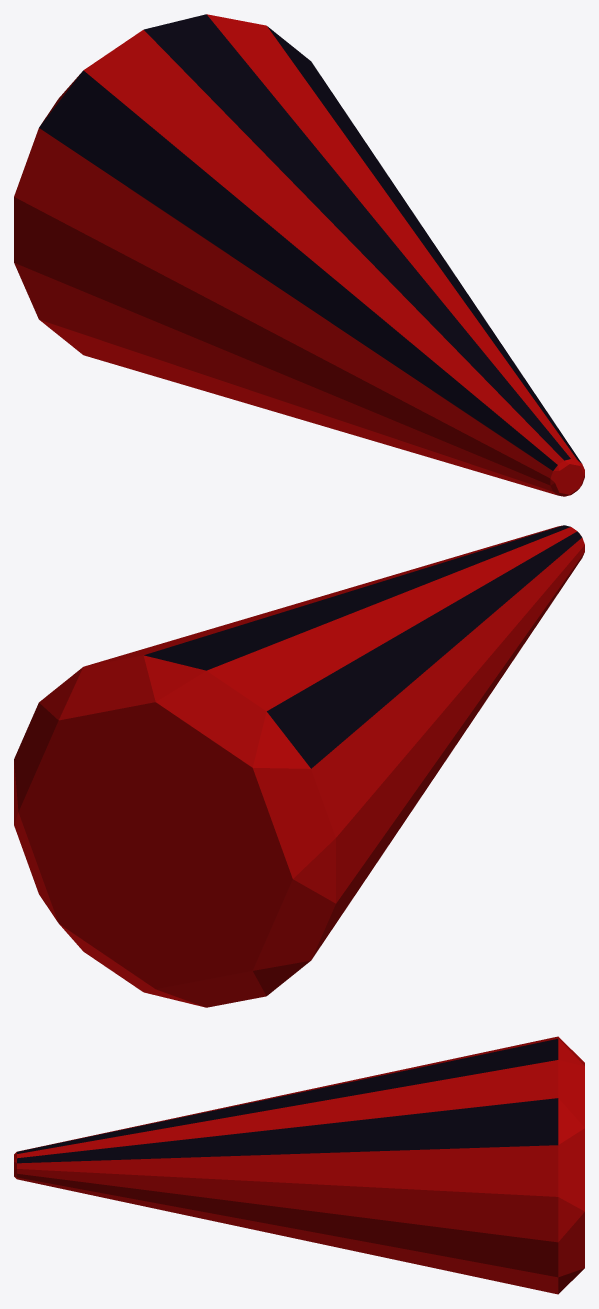
3 renders of one model, top to bottom at view 1: azimuth 30°, elevation 25°; view 2: azimuth 150°, elevation 25°; view 3: azimuth 270°, elevation 25°, orthographic. The views are drawn at different scales.
Visible parts, largest first — view 1: Cylinder.001; view 2: Cylinder.001; view 3: Cylinder.001.
Boxes of the visible parts, <box> form: Cylinder.001: <box>14,14,584,496</box>; Cylinder.001: <box>14,525,584,1007</box>; Cylinder.001: <box>14,1036,584,1294</box>.
Size of the model in its own units: 1.28 by 1.28 by 2.85.
